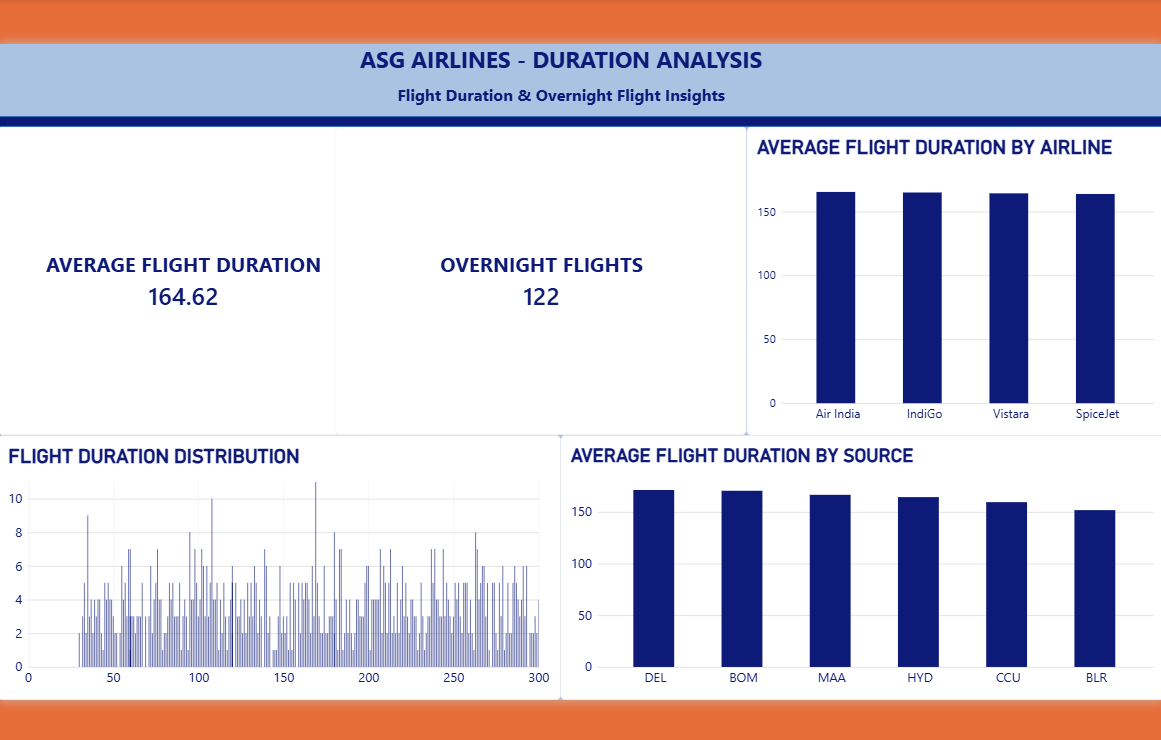

The dashboard page shown, as its layout file describes it:
{"tool":"powerbi","page":{"name":"Duration Analysis","canvas":[1920,1080],"ordinal":1},"visuals":[{"type":"clusteredColumnChart","title":"AVERAGE FLIGHT DURATION BY AIRLINE","fields":{"Category":["cleaned_flights.airline"],"Y":["Avg(cleaned_flights.duration_minutes)"]},"box":[1232.9,135.8,687.5,508.4],"z":0},{"type":"cardVisual","fields":{"Data":["Avg(cleaned_flights.duration_minutes)"]},"box":[0,135.8,609.3,508.4],"z":1000},{"type":"cardVisual","fields":{"Data":["Sum(anomaly_summary.count)"]},"box":[555.7,135.8,677.2,508.4],"z":2000},{"type":"clusteredColumnChart","title":"FLIGHT DURATION DISTRIBUTION","fields":{"Category":["cleaned_flights.duration_minutes"],"Y":["CountNonNull(cleaned_flights.flight_id)"]},"box":[0,644.3,926.2,436.4],"z":3000},{"type":"clusteredColumnChart","title":"AVERAGE FLIGHT DURATION BY SOURCE","fields":{"Category":["cleaned_flights.source"],"Y":["Avg(cleaned_flights.duration_minutes)"]},"box":[926.2,644.3,994.2,436.4],"z":4000},{"type":"textbox","box":[10,0,1834,66],"z":5000},{"type":"textbox","box":[10,66,1834,70],"z":6000},{"type":"shape","box":[0,119.4,1920.4,16.5],"z":7000}]}

Visuals, with their boxes on the page's 1920x1080 design canvas (x1, y1, x2, y2). These are canvas units, not pixel positions in the 1161x740 screenshot, which may show the page scaled, cropped or inside an application window:
"AVERAGE FLIGHT DURATION BY AIRLINE" clusteredColumnChart: 1233 136 1920 644
cardVisual - Avg(cleaned_flights.duration_minutes): 0 136 609 644
cardVisual - Sum(anomaly_summary.count): 556 136 1233 644
"FLIGHT DURATION DISTRIBUTION" clusteredColumnChart: 0 644 926 1081
"AVERAGE FLIGHT DURATION BY SOURCE" clusteredColumnChart: 926 644 1920 1081
textbox: 10 0 1844 66
textbox: 10 66 1844 136
shape: 0 119 1920 136
